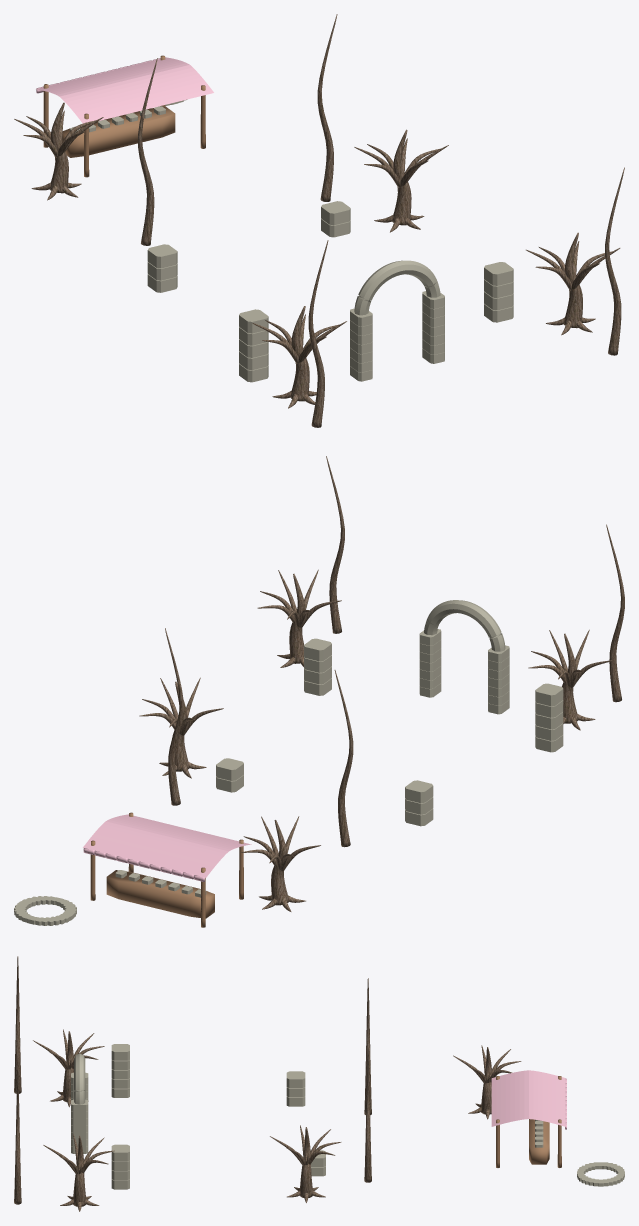
File: R3_Structure.fbx
The picture shows the model from 3 angles, top to bottom: view 1: azimuth 30°, elevation 25°; view 2: azimuth 150°, elevation 25°; view 3: azimuth 270°, elevation 25°; orthographic projection. The views are drawn at different scales.
Parts seen in each view (by area): view 1: R3_Structure; view 2: R3_Structure; view 3: R3_Structure.
Boxes of the visible parts, x1,y1,x2,y2 form: R3_Structure: [14, 14, 624, 427]; R3_Structure: [14, 456, 624, 927]; R3_Structure: [14, 956, 624, 1211].
Bounding box in the file's own units: 31.06 × 15.18 × 59.3.
4 materials, 1 textured.
